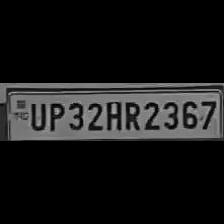2: (140, 98, 160, 132), (84, 99, 104, 131)
3: (64, 98, 84, 132), (160, 98, 178, 130)
6: (178, 98, 198, 130)
7: (198, 97, 216, 130)
H: (104, 98, 122, 130)
P: (46, 100, 64, 132)
R: (120, 98, 140, 132)
U: (27, 100, 46, 132)
